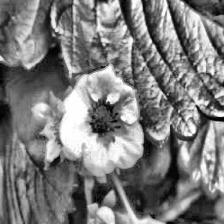Blossom Blight: (82, 98, 125, 146)
